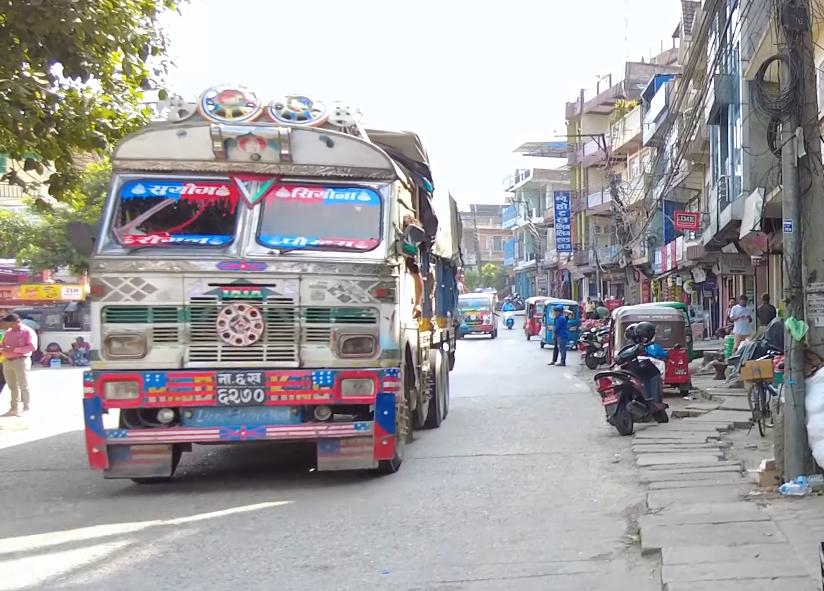auto_rickshaw: (537, 297, 582, 352), (522, 292, 547, 340)
scooter: (592, 339, 673, 442)
truck: (73, 84, 466, 482)
